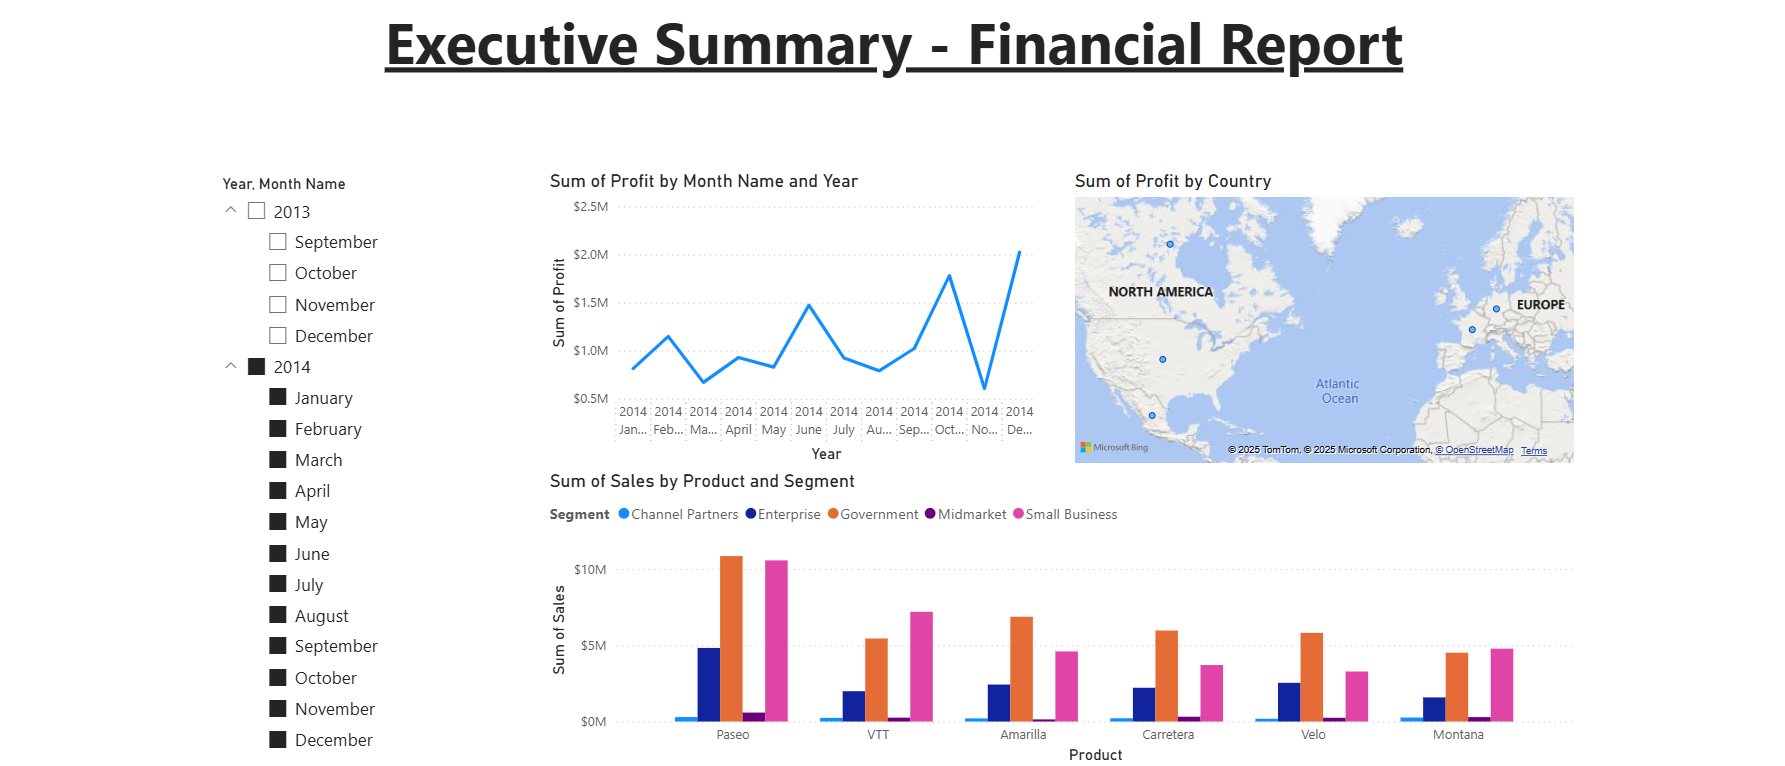

What the dashboard file says about the page in this screenshot:
{"tool":"powerbi","page":{"name":"Page 1","canvas":[1280,720],"ordinal":0},"visuals":[{"type":"lineChart","fields":{"Category":["financials.Month Name","financials.Year"],"Y":["Sum(financials.Profit)"]},"box":[314.3,161.4,463.5,278.8],"z":0},{"type":"slicer","fields":{"Values":["financials.Year","financials.Month Name"]},"box":[1,161.5,300.5,558.5],"z":1000},{"type":"map","fields":{"Category":["financials.Country"]},"box":[804.6,161.4,475.7,278.8],"z":2000},{"type":"textbox","box":[1.2,0,1279.1,161.4],"z":3000},{"type":"clusteredColumnChart","fields":{"Category":["financials.Product"],"Y":["Sum(financials. Sales)"],"Series":["financials.Segment"]},"box":[314.3,440.2,966,278.8],"z":3001}]}

Visuals, with their boxes on the page's 1280x720 design canvas (x1, y1, x2, y2). These are canvas units, not pixel positions in the 1785x766 screenshot, which may show the page scaled, cropped or inside an application window:
lineChart - financials.Month Name x financials.Year: 314/161/778/440
slicer - financials.Year x financials.Month Name: 1/162/302/720
map - financials.Country: 805/161/1280/440
textbox: 1/0/1280/161
clusteredColumnChart - financials.Product x Sum(financials. Sales): 314/440/1280/719
